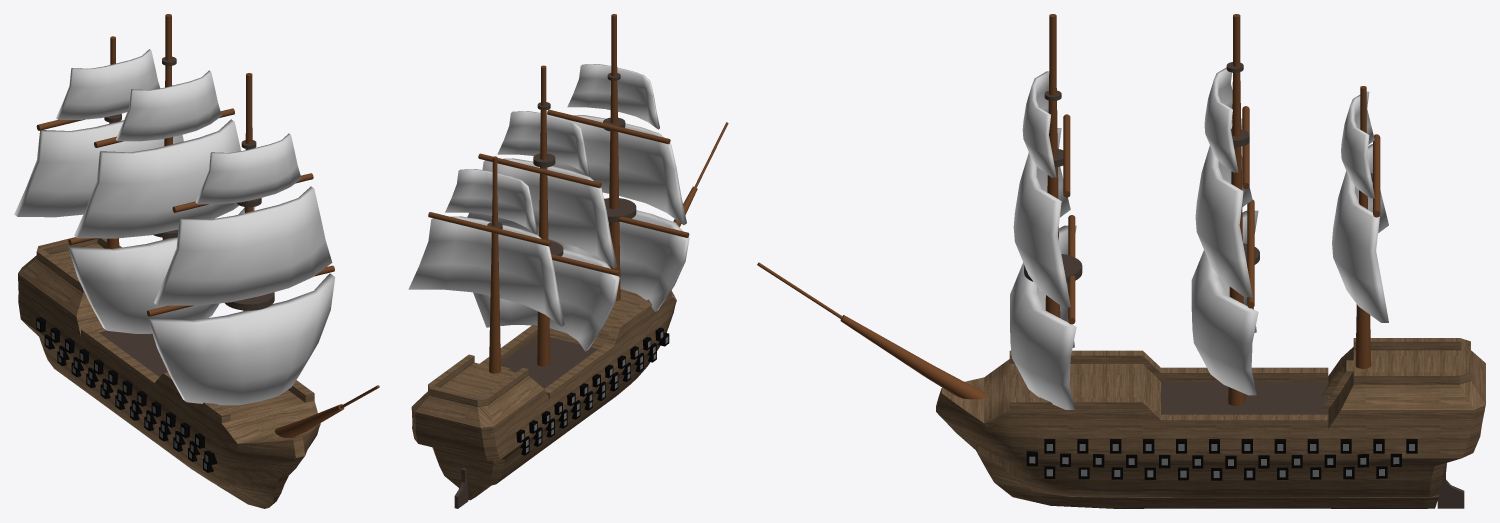
The model's file is ship.fbx.
3 renders of one model, left to right at view 1: azimuth 30°, elevation 25°; view 2: azimuth 150°, elevation 25°; view 3: azimuth 270°, elevation 25°, orthographic. The views are drawn at different scales.
Visible parts, largest first — view 1: ship; view 2: ship; view 3: ship.
Part boxes in pixels (x1,y1,x2,y2): ship: [14, 14, 379, 508]; ship: [408, 14, 728, 508]; ship: [757, 14, 1485, 508].
Bounding box in the file's own units: 95.99 × 214 × 287.
